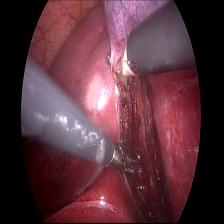Grasper: (112, 140, 146, 184)
Hook: (106, 40, 140, 93)
